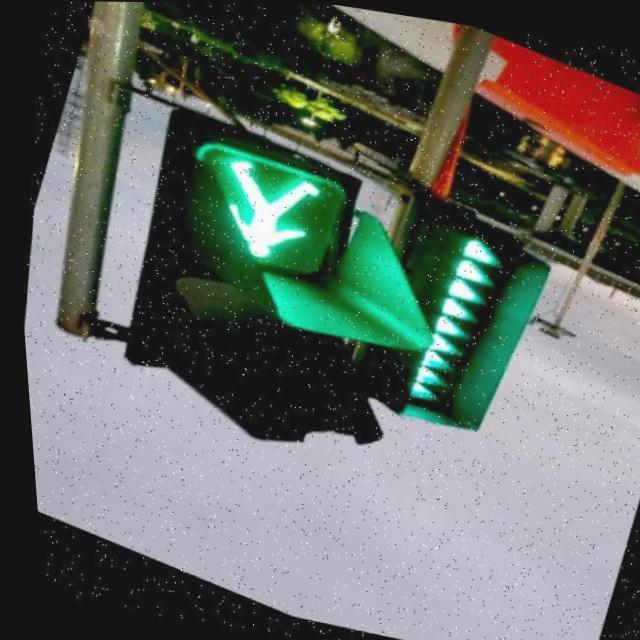green_light: (177, 142, 348, 292)
